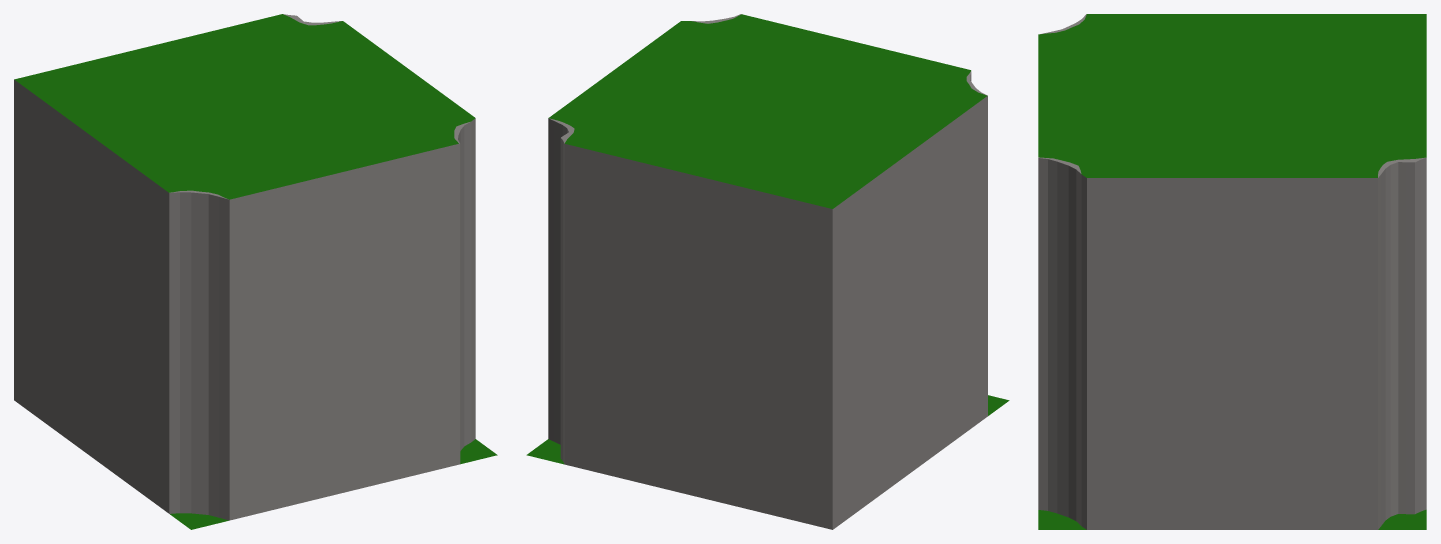
File: MountainTripleWedge.fbx
The picture shows the model from 3 angles, left to right: view 1: azimuth 30°, elevation 25°; view 2: azimuth 150°, elevation 25°; view 3: azimuth 270°, elevation 25°; orthographic projection. The views are drawn at different scales.
Visible parts, largest first — view 1: Plane.011; view 2: Plane.011; view 3: Plane.011.
Part boxes in pixels (<box>): Plane.011: <box>14,14,497,529</box>; Plane.011: <box>526,14,1009,529</box>; Plane.011: <box>1038,14,1426,529</box>.
Size of the model in its own units: 100 by 100 by 100.
